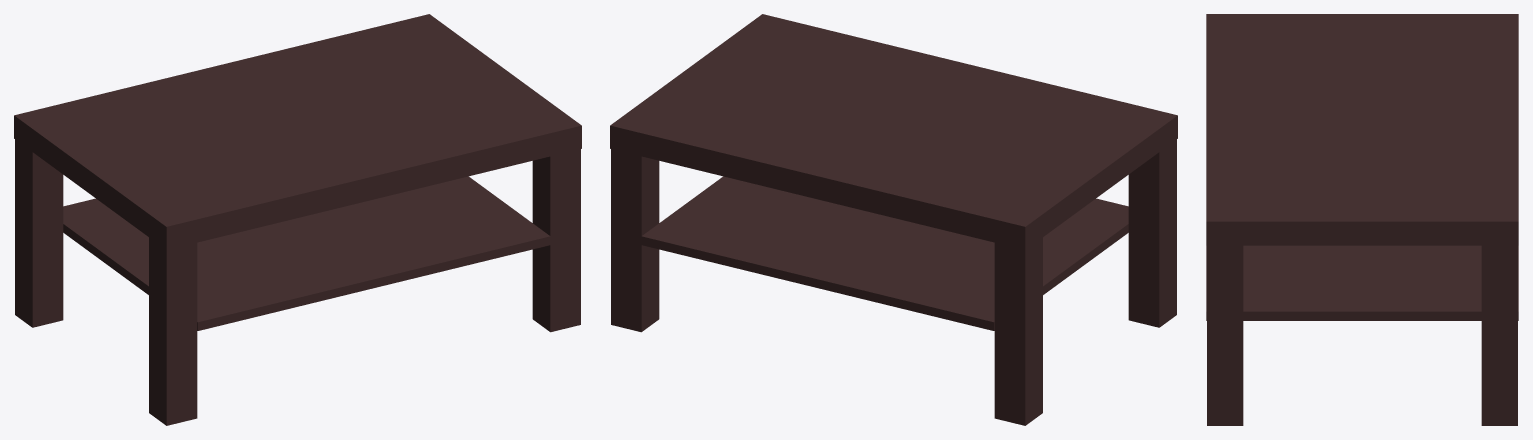
Rendered from Koffietafel .fbx.
3 views of the same model, side by side, from view 1: azimuth 30°, elevation 25°; view 2: azimuth 150°, elevation 25°; view 3: azimuth 270°, elevation 25° (orthographic). The views are drawn at different scales.
Parts seen in each view (by area): view 1: Table_Lp; view 2: Table_Lp; view 3: Table_Lp.
Part boxes in pixels (x1,y1,x2,y2): Table_Lp: (14,14,581,425); Table_Lp: (610,14,1177,425); Table_Lp: (1206,14,1518,425).
Size of the model in its own units: 44.87 by 20.59 by 28.52.
